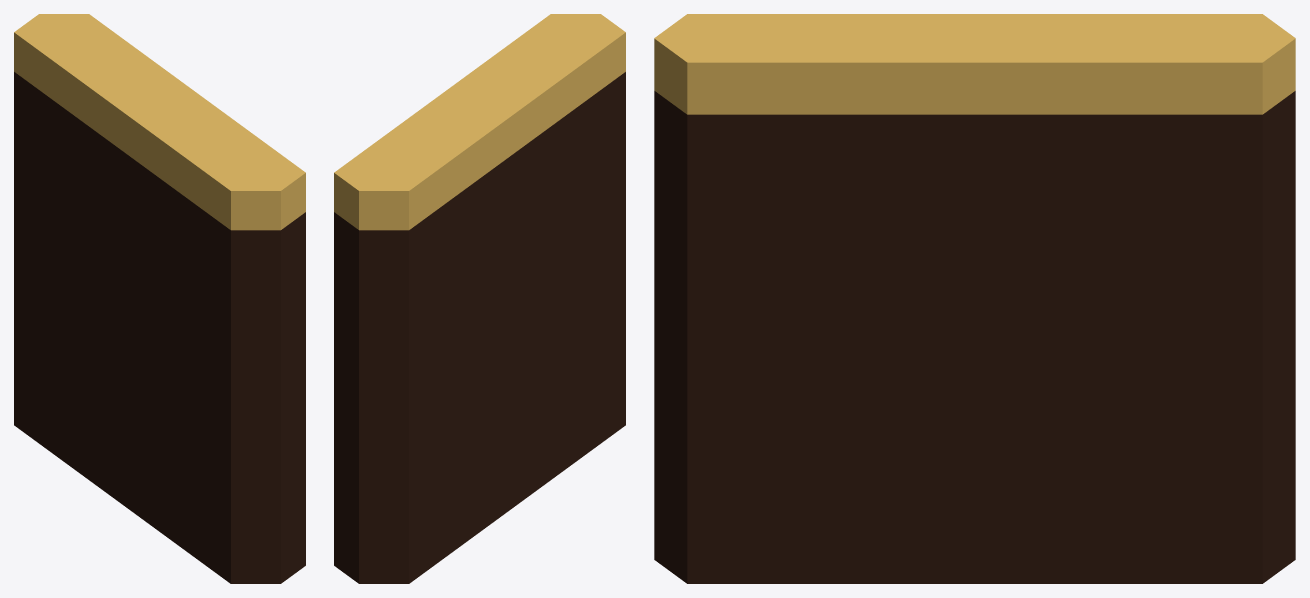
File: shore_edge.glb
3 renders of one model, left to right at view 1: azimuth 30°, elevation 25°; view 2: azimuth 150°, elevation 25°; view 3: azimuth 270°, elevation 25°, orthographic. The views are drawn at different scales.
Parts seen in each view (by area): view 1: shore_edge; view 2: shore_edge; view 3: shore_edge.
Boxes of the visible parts, x1,y1,x2,y2 form: shore_edge: [14, 14, 305, 583]; shore_edge: [334, 14, 625, 583]; shore_edge: [654, 14, 1295, 583].
Size of the model in its own units: 0.2 by 1 by 1.12.
